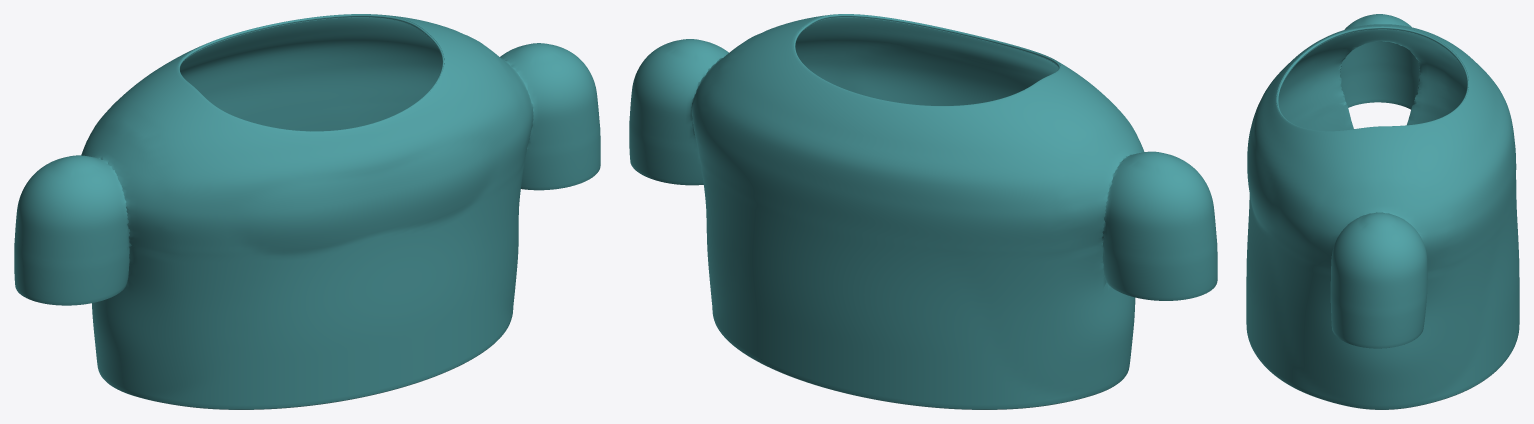
Rendered from Masculine-tshirt-top.glb.
3 renders of one model, left to right at view 1: azimuth 30°, elevation 25°; view 2: azimuth 150°, elevation 25°; view 3: azimuth 270°, elevation 25°, orthographic. The views are drawn at different scales.
Parts seen in each view (by area): view 1: Clothing / continuous T-shirt181, Neckline / seated181 export; view 2: Clothing / continuous T-shirt181, Neckline / seated181 export; view 3: Clothing / continuous T-shirt181, Neckline / seated181 export.
Boxes of the visible parts, bbox=[...] form: Clothing / continuous T-shirt181: bbox=[14, 14, 600, 409]; Neckline / seated181 export: bbox=[178, 14, 444, 131]; Clothing / continuous T-shirt181: bbox=[629, 14, 1217, 409]; Neckline / seated181 export: bbox=[793, 14, 1060, 106]; Clothing / continuous T-shirt181: bbox=[1246, 14, 1519, 409]; Neckline / seated181 export: bbox=[1276, 26, 1468, 131].
Bounding box in the file's own units: 0.9893 × 0.4645 × 0.461.
